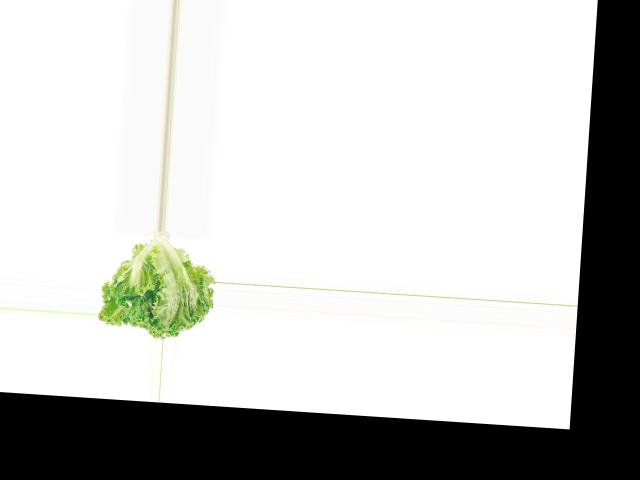lettuce: (98, 227, 218, 341)
